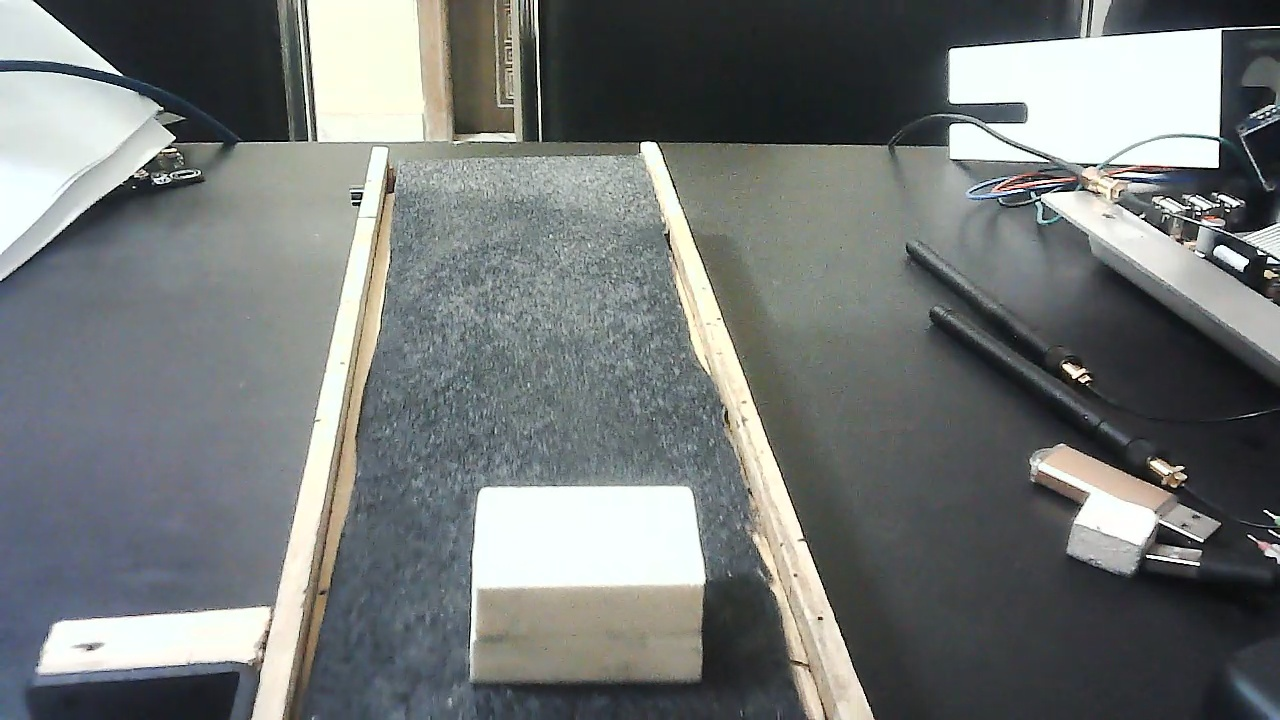BIG: (469, 467, 703, 702)
